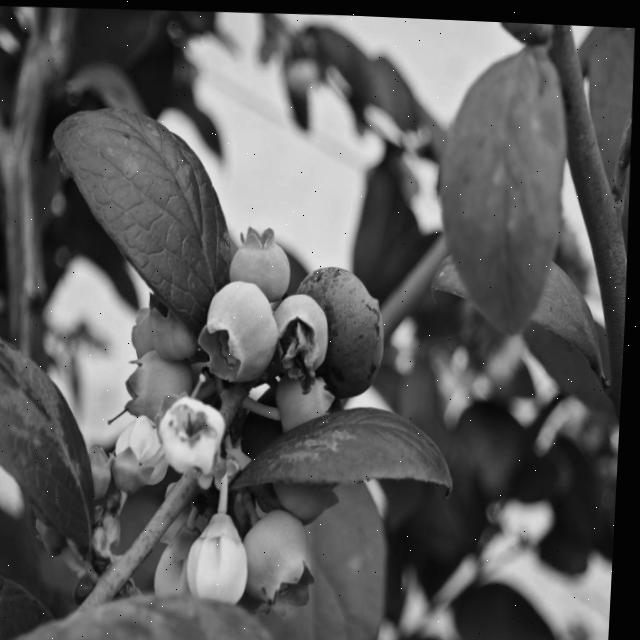RipeBlueBerry: (291, 259, 392, 399)
UnripeBlueBerry: (199, 274, 286, 384), (244, 503, 321, 613), (275, 287, 335, 377), (229, 226, 295, 297)
